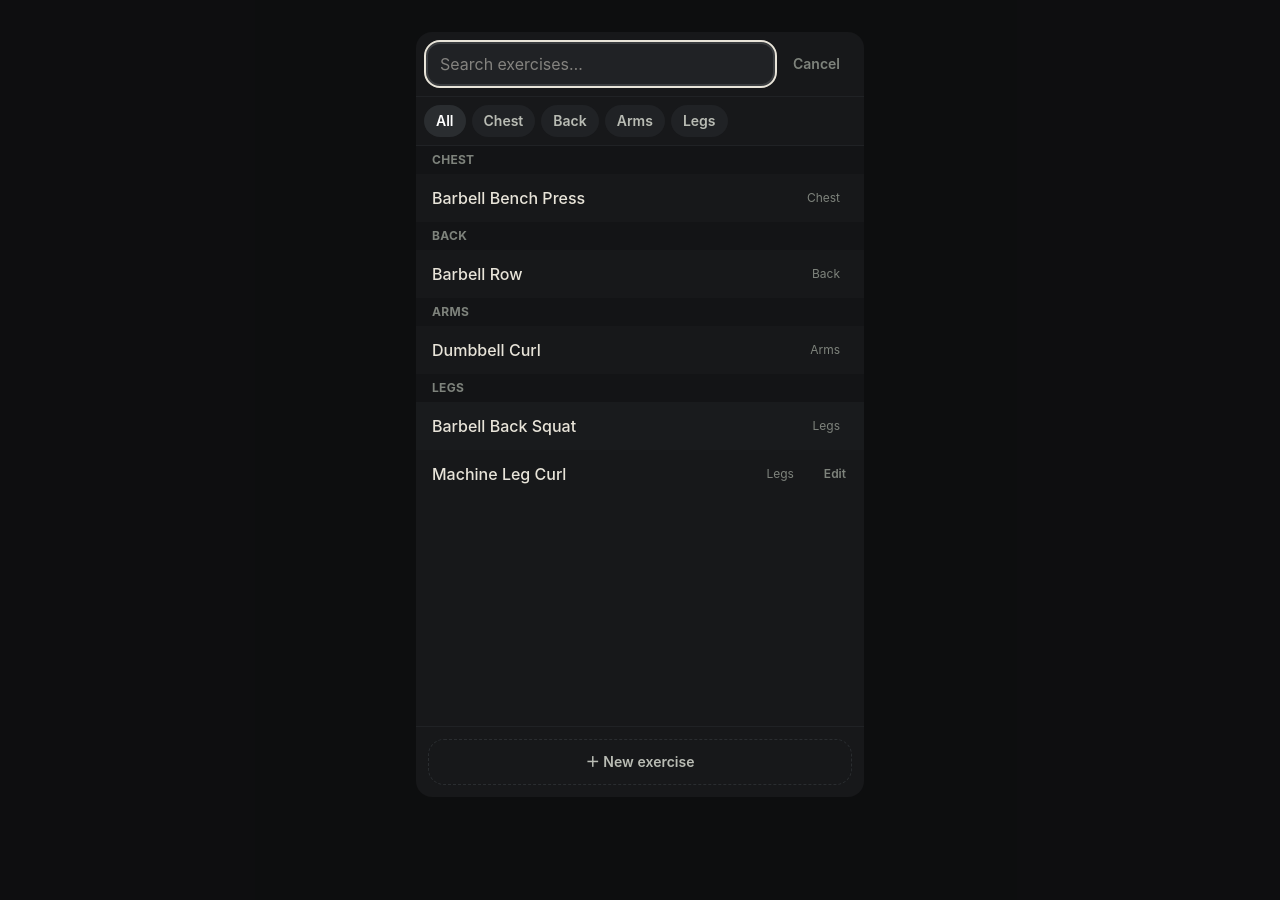
it: ExercisePicker › fuzzy-searches across names and aliases
Type "bb squat" into the search field labelled "Search exercises…" at (600, 64), box top-left (428, 44), bottom-right (773, 84)
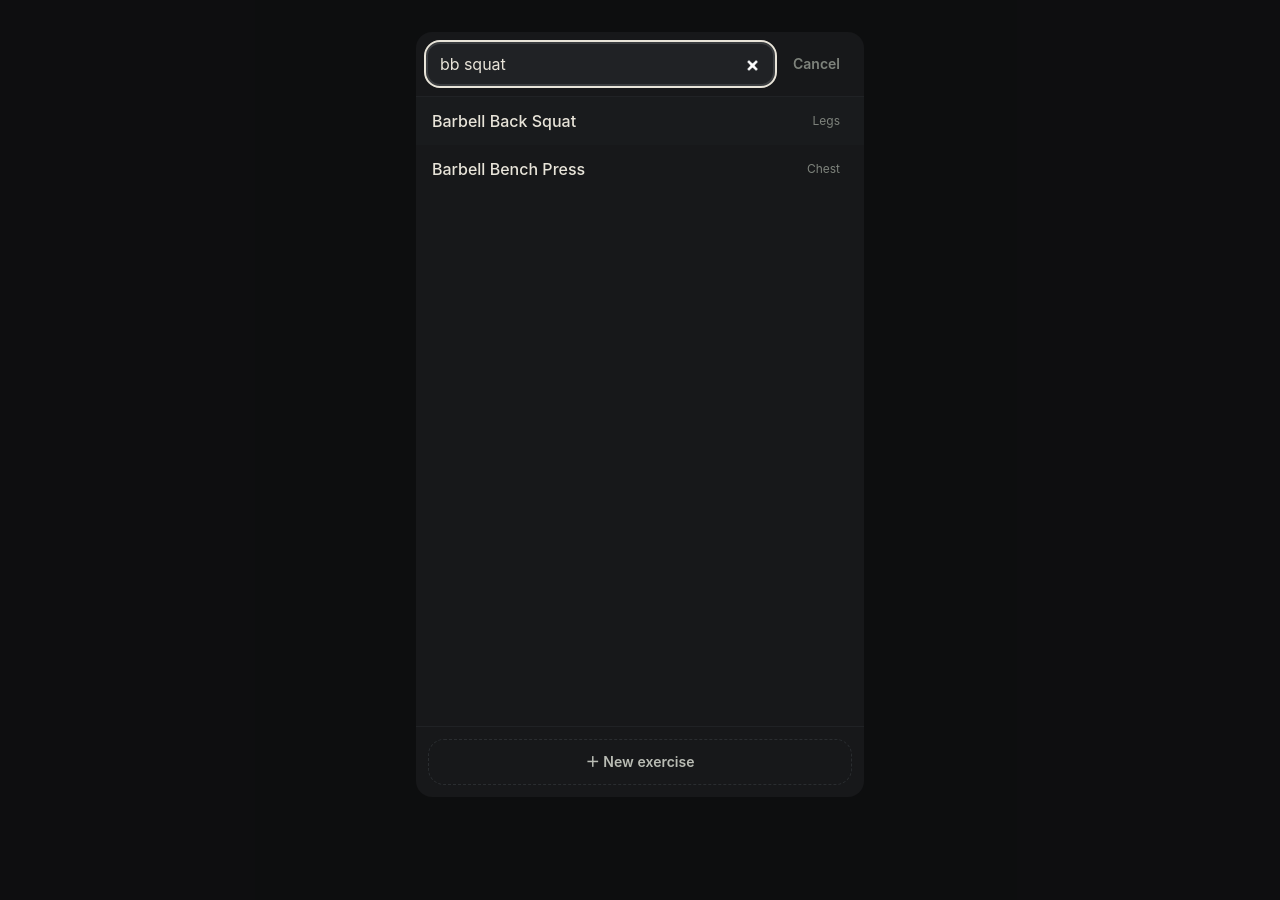
expect the text "Barbell Back Squat" is shown: met, box top-left (432, 109), bottom-right (576, 133)
expect the button "Dumbbell Curl" is gone: met
